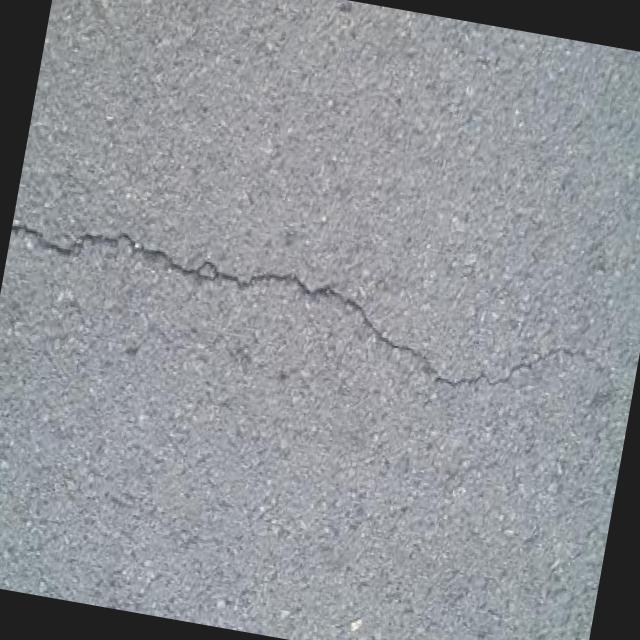Retak-Melintang: (11, 221, 604, 389)
